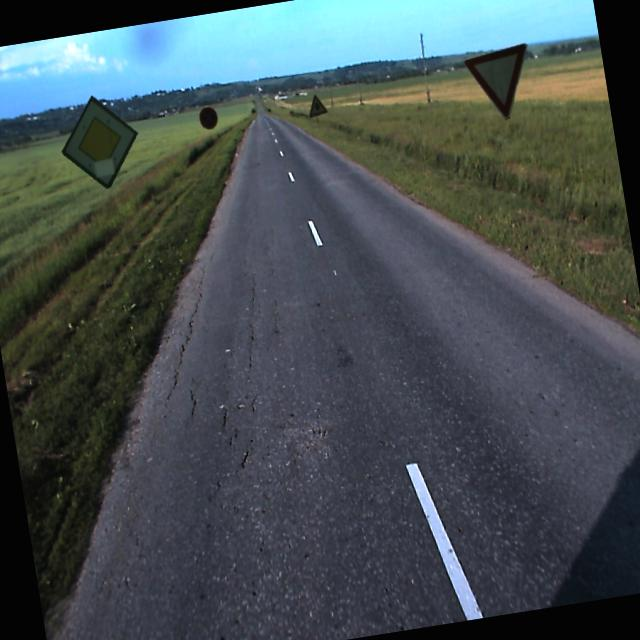road: (53, 117, 640, 640)
